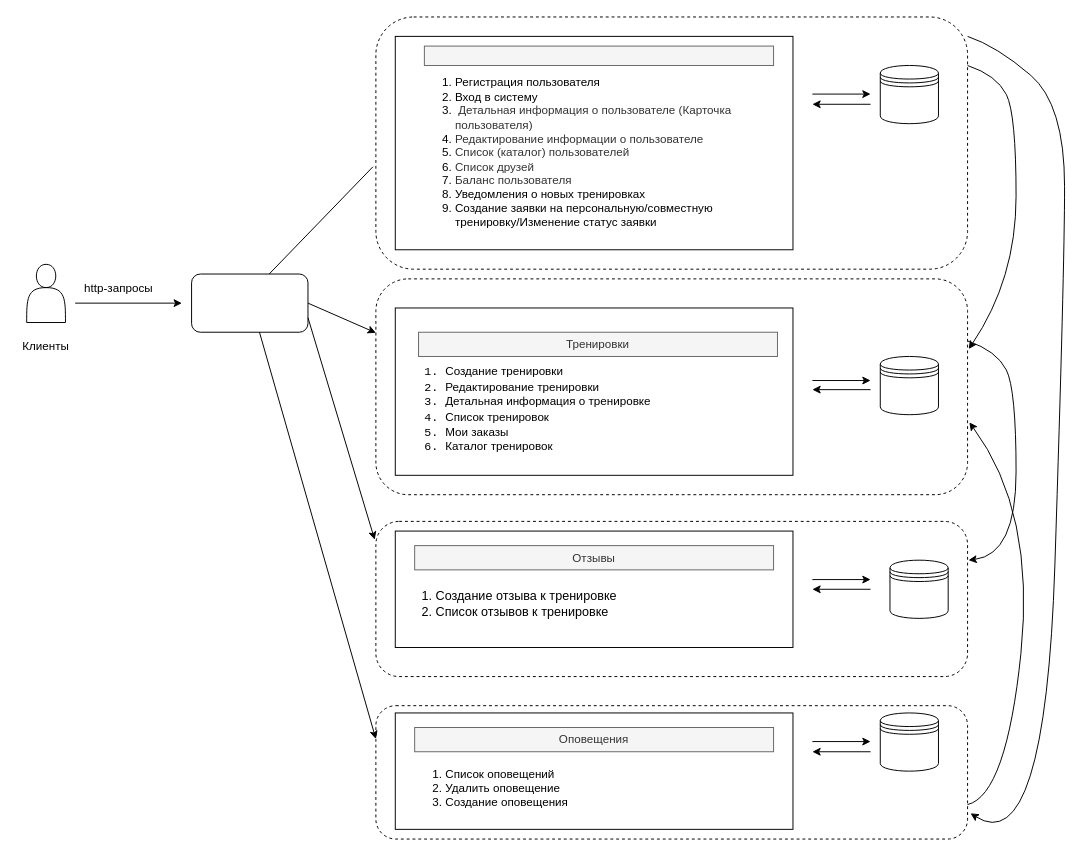
The diagram is 1082 pixels wide and 857 high, and some of its shapes have lost their labels. Here are the shapes that lost their labels. From the top down, the centre of each, then its label:
[598,55]: Пользователи
[249,302]: API Gateway
